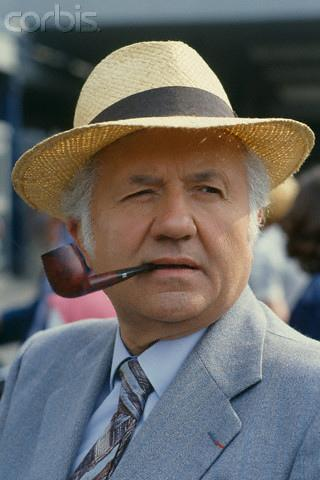trubka: (41, 242, 195, 298)
